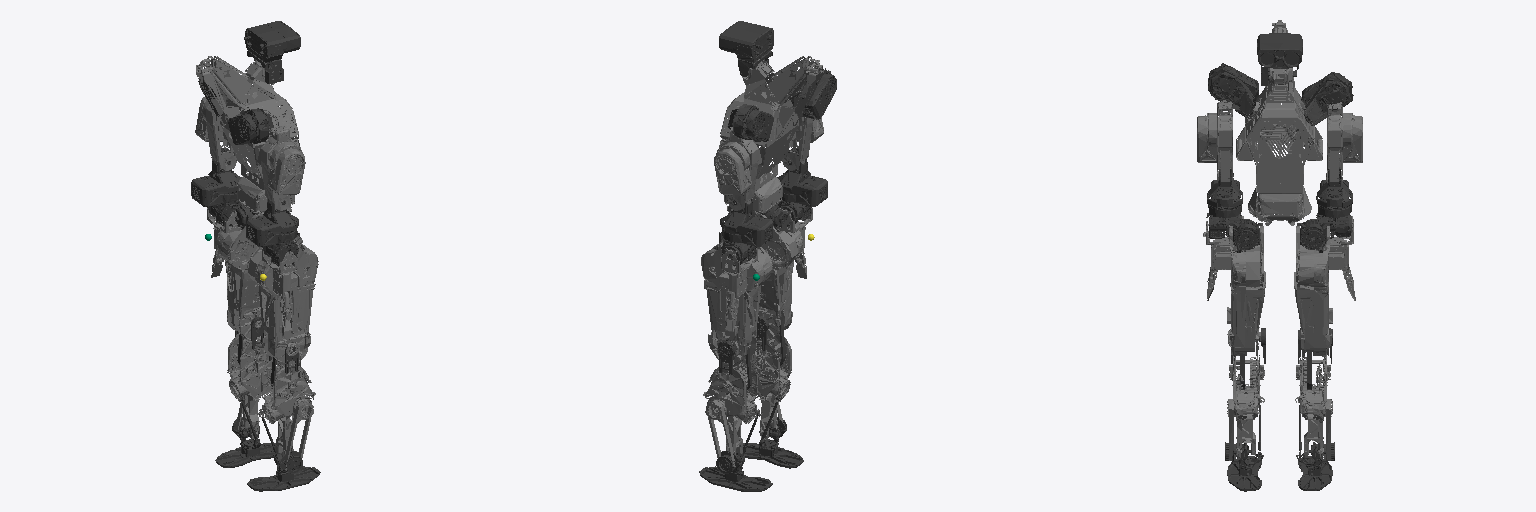
--- Facts derived from the render (not from the file) ---
Views: 3 orthographic renders of the robot side by side, from view 1: azimuth 30°, elevation 25°; view 2: azimuth 150°, elevation 25°; view 3: azimuth 270°, elevation 25°.
Model draco with 40 links and 39 joints (27 revolute, 12 fixed), rooted at torso_link, posed every joint at zero.
Visible links, largest first — view 1: torso_link, r_hip_fe_link, r_knee_fe_ld, l_hip_fe_link, r_shoulder_ie_link, l_knee_fe_ld, neck_pitch_link, r_elbow_fe_link, l_elbow_fe_link, r_sake_gripper_link, l_shoulder_ie_link, r_shoulder_fe_link (+3 smaller); view 2: torso_link, l_hip_fe_link, l_knee_fe_ld, r_hip_fe_link, l_shoulder_ie_link, r_knee_fe_ld, neck_pitch_link, l_elbow_fe_link, r_elbow_fe_link, l_sake_gripper_link, l_shoulder_fe_link, l_ankle_ie_link (+5 smaller); view 3: torso_link, r_hip_fe_link, l_hip_fe_link, r_knee_fe_ld, l_knee_fe_ld, r_shoulder_ie_link, l_shoulder_ie_link, r_shoulder_fe_link, neck_pitch_link, l_shoulder_fe_link, l_elbow_fe_link, r_elbow_fe_link (+7 smaller).
Link boxes in pixels (x1,y1,x2,y2): torso_link: [196, 56, 300, 215]; r_hip_fe_link: [247, 236, 318, 366]; r_knee_fe_ld: [257, 359, 315, 470]; l_hip_fe_link: [217, 213, 264, 340]; r_shoulder_ie_link: [261, 126, 305, 210]; l_knee_fe_ld: [227, 333, 272, 439]; neck_pitch_link: [244, 21, 300, 83]; r_elbow_fe_link: [246, 195, 298, 246]; l_elbow_fe_link: [191, 148, 241, 206]; r_sake_gripper_link: [262, 248, 299, 331]; l_shoulder_ie_link: [195, 97, 237, 170]; r_shoulder_fe_link: [228, 108, 274, 145]; torso_link: [719, 56, 823, 215]; l_hip_fe_link: [701, 238, 772, 365]; l_knee_fe_ld: [703, 358, 762, 470]; r_hip_fe_link: [754, 203, 802, 340]; l_shoulder_ie_link: [714, 127, 758, 210]; r_knee_fe_ld: [749, 334, 791, 439]; neck_pitch_link: [719, 21, 773, 76]; l_elbow_fe_link: [720, 194, 772, 246]; r_elbow_fe_link: [777, 148, 827, 206]; l_sake_gripper_link: [719, 246, 757, 331]; l_shoulder_fe_link: [728, 104, 773, 141]; l_ankle_ie_link: [699, 411, 772, 491]; torso_link: [1236, 20, 1322, 225]; r_hip_fe_link: [1227, 223, 1265, 356]; l_hip_fe_link: [1294, 226, 1332, 357]; r_knee_fe_ld: [1227, 355, 1264, 460]; l_knee_fe_ld: [1295, 354, 1332, 460]; r_shoulder_ie_link: [1197, 100, 1232, 185]; l_shoulder_ie_link: [1327, 102, 1362, 185]; r_shoulder_fe_link: [1208, 63, 1259, 117]; neck_pitch_link: [1257, 33, 1302, 85]; l_shoulder_fe_link: [1301, 72, 1353, 125]; l_elbow_fe_link: [1316, 167, 1352, 217]; r_elbow_fe_link: [1207, 167, 1242, 217].
Bounding box of the posed robot: 0.3421 × 0.4744 × 1.38 m (x, y, z).
24 mesh visuals loaded from 30 distinct referenced files (24 binary STL); not drawn: 6 (reference not matched to a file when rendering).

robot.urdf — draco:
<?xml version="1.0" encoding="utf-8"?>

<robot name="draco">

  <material name = "dark_gray">
    <color rgba="0.3 0.3 0.3 1"/>
  </material>

  <material name = "gray">
    <color rgba="0.5 0.5 0.5 1"/>
  </material>

  <material name = "light_blue">
    <color rgba="0.52 0.73 1 1"/>
  </material>

  <material name = "black">
    <color rgba="0 0 0 1"/>
  </material>

  <link name="torso_link">
    <visual>
      <origin rpy="0 -0 0" xyz="0 0 0"/>
      <geometry>
        <mesh filename="meshes/torso_link.stl"/>
      </geometry>
      <material name="gray"/>
    </visual>
    <inertial>
      <!--<origin rpy="0 0 0" xyz="-31.658e-03 -0.03865e-03 125.19e-03"/>-->
      <origin rpy="0 0 0" xyz="-31.658e-03 -0.07 125.19e-03"/>
      <mass value="6.456"/>
      <inertia ixx="178517.35e-06" ixy="-18.968e-06" ixz="28376.527e-06" iyy="181767.801e-06" iyz="-50.398e-06" izz="37147.31e-06"/>
    </inertial>
  </link>

  <!--=============================== torso_com (torso_com_link) ===========================-->
  <joint name="torso_com" type="fixed">
    <origin rpy="0 0 0" xyz="-31.658e-03 -0.03865e-03 125.19e-03"/>
    <parent link="torso_link"/>
    <child link="torso_com_link"/>
  </joint>
  <link name="torso_com_link">
    <inertial>
      <origin rpy="0 0 0" xyz="0 0 0"/>
      <mass value="1e-9"/>
      <inertia ixx="0" ixy="0" ixz="0" iyy="0" iyz="0" izz="0"/>
    </inertial>
  </link>

  <!--=============================== neck_pitch (neck_pitch_link) ===========================-->
  <joint name="neck_pitch" type="revolute">
    <origin rpy="0 0 0" xyz="-0.0025 0 0.352"/>
    <parent link="torso_link"/>
    <child link="neck_pitch_link"/>
    <axis xyz="0 1 0"/>
    <limit effort="8.8" lower="-0.523599" upper="1.309" velocity="76"/>
    <joint_properties friction="0.0"/>
  </joint>
  <link name="neck_pitch_link">
    <visual>
      <origin rpy="0 0 0" xyz="0 0 0"/>
      <geometry>
        <mesh filename="meshes/neck_pitch_link.stl"/>
      </geometry>
      <material name="dark_gray"/>
    </visual>
    <inertial>
      <origin rpy="0 0 0" xyz="0.0133603 -0.00105814 0.050"/>
      <mass value="1.394979"/>
      <inertia ixx="0.0026526" ixy="-2.37226e-05" ixz="-0.000179286" iyy="0.00218170" iyz="-10.85488e-05" izz="0.00312442"/>
    </inertial>
  </link>

  <!--=============================== l_shoulder_fe (l_shoulder_fe_link) ===========================-->
  <joint name="l_shoulder_fe" type="revolute">
    <origin rpy="0.523599 0 0" xyz="-0.05 0.156 0.2625"/>
    <parent link="torso_link"/>
    <child link="l_shoulder_fe_link"/>
    <axis xyz="0 1 0"/>
    <limit effort="18" lower="-2.26893" upper="0.698132" velocity="47"/>
    <joint_properties friction="0.0"/>
  </joint>
  <link name="l_shoulder_fe_link">
    <visual>
      <origin rpy="0 0 0" xyz="0 0 0"/>
      <geometry>
        <mesh filename="meshes/l_shoulder_fe_link.stl"/>
      </geometry>
      <material name="dark_gray"/>
    </visual>
    <inertial>
      <origin rpy="0 0 0" xyz="-0.0825089 -0.0272215 0"/>
      <mass value="1.02127"/>
      <inertia ixx="0.003" ixy="0.000188" ixz="-1.077e-04" iyy="0.002" iyz="-4.214e-07" izz="0.002"/>
    </inertial>
  </link>

  <!--=============================== l_shoulder_aa (l_shoulder_aa_link) ===========================-->
  <joint name="l_shoulder_aa" type="revolute">
    <origin rpy="-0.523599 0 0" xyz="0 0 0"/>
    <parent link="l_shoulder_fe_link"/>
    <child link="l_shoulder_aa_link"/>
    <axis xyz="1 0 0"/>
    <limit effort="18" lower="0" upper="2.0944" velocity="47"/>
    <joint_properties friction="0.0"/>
  </joint>
  <link name="l_shoulder_aa_link">
    <visual>
      <origin rpy="0 0 0" xyz="0 0 0"/>
      <geometry>
        <mesh filename="meshes/l_shoulder_aa_link.stl"/>
      </geometry>
      <material name="dark_gray"/>
    </visual>
    <inertial>
      <origin rpy="0 0 0" xyz="0.0189446 0.000135529 0.00688183"/>
      <mass value="0.880498"/>
      <inertia ixx="0.00104194" ixy="5.17675e-06" ixz="-0.000110264" iyy="0.00190054" iyz="6.87354e-06" izz="0.00224159"/>
    </inertial>
  </link>

  <!--=============================== l_shoulder_ie (l_shoulder_ie_link) ===========================-->
  <joint name="l_shoulder_ie" type="revolute">
    <origin rpy="0 0 0" xyz="0 0 0"/>
    <parent link="l_shoulder_aa_link"/>
    <child link="l_shoulder_ie_link"/>
    <axis xyz="0 0 1"/>
    <limit effort="18" lower="-1.55" upper="1.55" velocity="47"/>
    <joint_properties friction="0.0"/>
  </joint>
  <link name="l_shoulder_ie_link">
    <visual>
      <origin rpy="0 -0 0" xyz="0 0 0"/>
      <geometry>
        <mesh filename="meshes/l_shoulder_ie_link.stl"/>
      </geometry>
      <material name="gray"/>
    </visual>
    <inertial>
      <origin rpy="0 0 0" xyz="-0.00404627 0.029987 -0.137257"/>
      <mass value="1.21235"/>
      <inertia ixx="0.00490878" ixy="4.35994e-05" ixz="-6.63613e-05" iyy="0.00459797" iyz="3.61794e-05" izz="0.00207282"/>
    </inertial>
  </link>

  <!--=============================== l_elbow_fe (l_elbow_fe_link) ===========================-->
  <joint name="l_elbow_fe" type="revolute">
    <origin rpy="0 0 0" xyz="0 0 -0.25"/>
    <parent link="l_shoulder_ie_link"/>
    <child link="l_elbow_fe_link"/>
    <axis xyz="0 1 0"/>
    <limit effort="10" lower="-2.094" upper="0.0872665" velocity="59.2"/>
    <joint_properties friction="0.0"/>
  </joint>
  <link name="l_elbow_fe_link">
    <visual>
      <origin rpy="0 -0 0" xyz="0 0 0"/>
      <geometry>
        <mesh filename="meshes/l_elbow_fe_link.stl"/>
      </geometry>
      <material name="dark_gray"/>
    </visual>
    <inertial>
      <origin rpy="0 0 0" xyz="-0.0190443 0 -0.0633779"/>
      <mass value="0.990031"/>
      <inertia ixx="0.00220347" ixy="-2.91162e-08" ixz="-0.000310918" iyy="0.00297439" iyz="2.27665e-07" izz="0.0021045"/>
    </inertial>
  </link>

  <!--=============================== l_wrist_ps (l_wrist_ps_link) ===========================-->
  <joint name="l_wrist_ps" type="revolute">
    <origin rpy="0 0 0" xyz="0 0 0"/>
    <parent link="l_elbow_fe_link"/>
    <child link="l_wrist_ps_link"/>
    <axis xyz="0 0 1"/>
    <limit effort="12" lower="-1.571" upper="1.571" velocity="71"/>
    <joint_properties friction="0.0"/>
  </joint>
  <link name="l_wrist_ps_link">
    <visual>
      <origin rpy="0 0 0" xyz="0 0 0"/>
      <geometry>
        <mesh filename="meshes/l_wrist_ps_link.stl"/>
      </geometry>
      <material name="dark_gray"/>
    </visual>
    <inertial>
      <origin rpy="0 0 0" xyz="0.000229308 0.0158433 -0.154"/>
      <mass value="0.64434"/>
      <inertia ixx="0.001" ixy="1.05504e-05" ixz="-5.41208e-06" iyy="0.001" iyz="4.65277e-05" izz="0.001"/>
    </inertial>
  </link>

  <!--=============================== l_wrist_pitch (l_wrist_pitch_link) ===========================-->
  <joint name="l_wrist_pitch" type="revolute">
    <origin rpy="0 0 0" xyz="0 0 -0.1578"/>
    <parent link="l_wrist_ps_link"/>
    <child link="l_wrist_pitch_link"/>
    <axis xyz="0 1 0"/>
    <limit effort="8.8" lower="-1.571" upper="1.571" velocity="76"/>
    <joint_properties friction="0.0"/>
  </joint>
  <link name="l_wrist_pitch_link">
    <inertial>
      <origin rpy="0 0 0" xyz="0 0 0"/>
      <mass value="1e-9"/>
      <inertia ixx="0" ixy="0" ixz="0" iyy="0" iyz="0" izz="0"/>
    </inertial>
  </link>

  <!--=============================== l_wrist_mount (l_sake_gripper_link) ===========================-->
  <joint name="l_wrist_mount" type="fixed">
    <origin rpy="0 0 0" xyz="0 0 0"/>
    <parent link="l_wrist_pitch_link"/>
    <child link="l_sake_gripper_link"/>
  </joint>
  <link name="l_sake_gripper_link">
    <visual>
      <origin rpy="0 0 0" xyz="0 0 0"/>
      <geometry>
        <mesh filename="meshes/l_sake_gripper_link.stl"/>
      </geometry>
      <material name="gray"/>
    </visual>
    <inertial>
      <origin rpy="0 0 0" xyz="5.4498e-05 0.000382544 -0.061"/>
      <mass value="0.498"/>
      <inertia ixx="0.00091" ixy="2.81199e-09" ixz="2.07385e-07" iyy="0.0004228" iyz="-5.81044e-06" izz="0.00091"/>
    </inertial>
  </link>

  <!--=============================== l_camera_frame (l_camera) ===========================-->
  <joint name="l_camera_frame" type="fixed">
      <!--circle-->
      <!--<origin rpy="0 0 0" xyz="-0.05535 0 -0.0975"/> -->
      <!--camera (45 deg)-->
      <!--<origin rpy="0 2.355 0" xyz="-0.07267 0 -0.0802"/> -->
      <!--camera (90 deg)-->
      <origin rpy="0 3.14 0" xyz="-0.05535 0 -0.073"/>
    <parent link="l_sake_gripper_link"/>
    <child link="l_camera"/>
    <axis xyz="0 0 0"/>
  </joint>
  <link name="l_camera">
    <inertial>
      <origin rpy="0 0 0" xyz="0 0 0"/>
      <mass value="1e-9"/>
      <inertia ixx="0" ixy="0" ixz="0" iyy="0" iyz="0" izz="0"/>
    </inertial>
    <visual>
      <origin rpy="0 0 0" xyz="0 0 0"/>
      <geometry>
          <sphere radius="0.01"/>
      </geometry>
    </visual>
  </link>

  <!--=============================== l_hand_contact_frame (l_hand_contact) ===========================-->
  <joint name="l_hand_contact_frame" type="fixed">
    <origin rpy="0 0 0" xyz="0 0 -0.150052"/>
    <parent link="l_sake_gripper_link"/>
    <child link="l_hand_contact"/>
    <axis xyz="0 0 0"/>
  </joint>
  <link name="l_hand_contact">
    <inertial>
      <origin rpy="0 0 0" xyz="0 0 0"/>
      <mass value="1e-9"/>
      <inertia ixx="0" ixy="0" ixz="0" iyy="0" iyz="0" izz="0"/>
    </inertial>
  </link>

  <!--=============================== r_shoulder_fe (r_shoulder_fe_link) ===========================-->
  <joint name="r_shoulder_fe" type="revolute">
    <origin rpy="-0.523599 0 0" xyz="-0.05 -0.156 0.2625"/>
    <parent link="torso_link"/>
    <child link="r_shoulder_fe_link"/>
    <axis xyz="0 1 0"/>
    <limit effort="18" lower="-2.26893" upper="0.698132" velocity="47"/>
    <joint_properties friction="0.0"/>
  </joint>
  <link name="r_shoulder_fe_link">
    <visual>
      <origin rpy="0 -0 0" xyz="0 0 0"/>
      <geometry>
        <mesh filename="meshes/r_shoulder_fe_link.stl"/>
      </geometry>
      <material name="dark_gray"/>
    </visual>
    <inertial>
      <origin rpy="0 0 0" xyz="-0.0825089 0.0272215 6.40505e-05"/>
      <mass value="1.02127"/>
      <inertia ixx="0.003" ixy="-0.000198378" ixz="3.31293e-05" iyy="0.002" iyz="-3.00004e-06" izz="0.002"/>
    </inertial>
  </link>

  <!--=============================== r_shoulder_aa (r_shoulder_aa_link) ===========================-->
  <joint name="r_shoulder_aa" type="revolute">
    <origin rpy="0.523599 0 0" xyz="0 0 0"/>
    <parent link="r_shoulder_fe_link"/>
    <child link="r_shoulder_aa_link"/>
    <axis xyz="1 0 0"/>
    <limit effort="18" lower="-2.0944" upper="0" velocity="47"/>
    <joint_properties friction="0.0"/>
  </joint>
  <link name="r_shoulder_aa_link">
    <visual>
      <origin rpy="0 0 0" xyz="0 0 0"/>
      <geometry>
        <mesh filename="meshes/r_shoulder_aa_link.stl"/>
      </geometry>
      <material name="dark_gray"/>
    </visual>
    <inertial>
      <origin rpy="0 0 0" xyz="0.0189446 0.000135529 0.00688183"/>
      <mass value="0.880498"/>
      <inertia ixx="0.00104194" ixy="5.17675e-06" ixz="-0.000110264" iyy="0.00190054" iyz="6.87354e-06" izz="0.00224159"/>
    </inertial>
  </link>

  <!--=============================== r_shoulder_ie (r_shoulder_ie_link) ===========================-->
  <joint name="r_shoulder_ie" type="revolute">
    <origin rpy="0 0 0" xyz="0 0 0"/>
    <parent link="r_shoulder_aa_link"/>
    <child link="r_shoulder_ie_link"/>
    <axis xyz="0 0 1"/>
    <limit effort="18" lower="-1.5" upper="1.5" velocity="47"/>
    <joint_properties friction="0.0"/>
  </joint>
  <link name="r_shoulder_ie_link">
    <visual>
      <origin rpy="0 0 0" xyz="0 0 0"/>
      <geometry>
        <mesh filename="meshes/r_shoulder_ie_link.stl"/>
      </geometry>
      <material name="gray"/>
    </visual>
    <inertial>
      <origin rpy="0 0 0" xyz="-0.00404627 -0.029987 -0.137257"/>
      <mass value="1.21235"/>
      <inertia ixx="0.00490973" ixy="-4.37742e-05" ixz="-6.62765e-05" iyy="0.00459809" iyz="-3.39569e-05" izz="0.002074"/>
    </inertial>
  </link>

  <!--=============================== r_elbow_fe (r_elbow_fe_link) ===========================-->
  <joint name="r_elbow_fe" type="revolute">
    <origin rpy="0 0 0" xyz="0 0 -0.25"/>
    <parent link="r_shoulder_ie_link"/>
    <child link="r_elbow_fe_link"/>
    <axis xyz="0 1 0"/>
    <limit effort="10" lower="-2.094" upper="0.0872665" velocity="59.2"/>
    <joint_properties friction="0.0"/>
  </joint>
  <link name="r_elbow_fe_link">
    <visual>
      <origin rpy="0 -0 0" xyz="0 0 0"/>
      <geometry>
        <mesh filename="meshes/r_elbow_fe_link.stl"/>
      </geometry>
      <material name="dark_gray"/>
    </visual>
    <inertial>
      <origin rpy="0 0 0" xyz="-0.0190415 1.75896e-05 -0.0633849"/>
      <mass value="0.990031"/>
      <inertia ixx="0.00220407" ixy="-2.9063e-08" ixz="-0.000310786" iyy="0.00297478" iyz="2.27528e-07" izz="0.00210481"/>
    </inertial>
  </link>

  <!--=============================== r_wrist_ps (r_wrist_ps_link) ===========================-->
  <joint name="r_wrist_ps" type="revolute">
    <origin rpy="0 0 0" xyz="0 0 0"/>
    <parent link="r_elbow_fe_link"/>
    <child link="r_wrist_ps_link"/>
    <axis xyz="0 0 1"/>
    <limit effort="12" lower="-1.571" upper="1.571" velocity="71"/>
    <joint_properties friction="0.0"/>
  </joint>
  <link name="r_wrist_ps_link">
    <visual>
      <origin rpy="0 -0 0" xyz="0 0 0"/>
      <geometry>
        <mesh filename="meshes/r_wrist_ps_link.stl"/>
      </geometry>
      <material name="dark_gray"/>
    </visual>
    <inertial>
      <origin rpy="0 0 0" xyz="0.000229308 0.0158433 -0.154481"/>
      <mass value="0.64434"/>
      <inertia ixx="0.001" ixy="5.23851e-06" ixz="-4.22277e-06" iyy="0.001" iyz="3.40912e-05" izz="0.001"/>
    </inertial>
  </link>

  <!--=============================== r_wrist_pitch (r_wrist_pitch_link) ===========================-->
  <joint name="r_wrist_pitch" type="revolute">
    <origin rpy="0 0 0" xyz="0 0 -0.1578"/>
    <parent link="r_wrist_ps_link"/>
    <child link="r_wrist_pitch_link"/>
    <axis xyz="0 1 0"/>
    <limit effort="8.8" lower="-1.571" upper="1.571" velocity="76"/>
    <joint_properties friction="0.0"/>
  </joint>
  <link name="r_wrist_pitch_link">
    <inertial>
      <origin rpy="0 0 0" xyz="0 0 0"/>
      <mass value="1e-9"/>
      <inertia ixx="0" ixy="0" ixz="0" iyy="0" iyz="0" izz="0"/>
    </inertial>
  </link>

  <!--=============================== r_wrist_mount (r_sake_gripper_link) ===========================-->
  <joint name="r_wrist_mount" type="fixed">
    <origin rpy="0 0 0" xyz="0 0 0"/>
    <parent link="r_wrist_pitch_link"/>
    <child link="r_sake_gripper_link"/>
  </joint>
  <link name="r_sake_gripper_link">
    <visual>
      <origin rpy="0 0 0" xyz="0 0 0"/>
      <geometry>
        <mesh filename="meshes/r_sake_gripper_link.stl"/>
      </geometry>
      <material name="gray"/>
    </visual>
    <inertial>
      <origin rpy="0 0 0" xyz="5.4498e-05 0.000382544 -0.061"/>
      <mass value="0.498"/>
      <inertia ixx="0.00091" ixy="2.81199e-09" ixz="2.07385e-07" iyy="0.0004228" iyz="-5.81044e-06" izz="0.00091"/>
    </inertial>
  </link>

  <!--=============================== r_camera_frame (r_camera) ===========================-->
  <joint name="r_camera_frame" type="fixed">
      <!--circle-->
      <!--<origin rpy="0 0 0" xyz="-0.05535 0 -0.0975"/> -->
      <!--camera (45 deg)-->
      <!--<origin rpy="0 2.355 0" xyz="-0.07267 0 -0.0802"/> -->
      <!--camera (90 deg)-->
      <origin rpy="0 3.14 0" xyz="-0.05535 0 -0.073"/>
    <parent link="r_sake_gripper_link"/>
    <child link="r_camera"/>
    <axis xyz="0 0 0"/>
  </joint>
  <link name="r_camera">
    <inertial>
      <origin rpy="0 0 0" xyz="0 0 0"/>
      <mass value="1e-9"/>
      <inertia ixx="0" ixy="0" ixz="0" iyy="0" iyz="0" izz="0"/>
    </inertial>
    <visual>
      <origin rpy="0 0 0" xyz="0 0 0"/>
      <geometry>
          <sphere radius="0.01"/>
      </geometry>
    </visual>
  </link>

  <!--=============================== r_hand_contact_frame (r_hand_contact) ===========================-->
  <joint name="r_hand_contact_frame" type="fixed">
    <origin rpy="0 0 0" xyz="0 0 -0.150052"/>
    <parent link="r_sake_gripper_link"/>
    <child link="r_hand_contact"/>
    <axis xyz="0 0 0"/>
  </joint>
  <link name="r_hand_contact">
    <inertial>
      <origin rpy="0 0 0" xyz="0 0 0"/>
      <mass value="1e-9"/>
      <inertia ixx="0" ixy="0" ixz="0" iyy="0" iyz="0" izz="0"/>
    </inertial>
  </link>

  <!--=============================== l_hip_ie (l_hip_ie_link) ===========================-->
  <joint name="l_hip_ie" type="revolute">
    <origin rpy="0.523599 0 0" xyz="0 0.06 -0.0893782"/>
    <parent link="torso_link"/>
    <child link="l_hip_ie_link"/>
    <axis xyz="0 0 1"/>
    <limit effort="44" lower="-0.872665" upper="0.872665" velocity="8.1"/>
    <joint_properties friction="0.0"/>
  </joint>
  <link name="l_hip_ie_link">
    <visual>
      <origin rpy="0 0 0" xyz="0 0 0"/>
      <geometry>
        <mesh filename="meshes/l_hip_ie_link.stl"/>
      </geometry>
      <material name="dark_gray"/>
    </visual>
    <inertial>
      <origin rpy="0 0 0" xyz="-0.00363703 0.00531284 -0.0260463"/>
      <mass value="0.162"/>
      <inertia ixx="136.77063e-06" ixy="-12.07781e-06" ixz="18.69536e-06" iyy="229.3943e-06" iyz="26.13639e-06" izz="196.36211e-06"/>
    </inertial>
  </link>

  <!--=============================== l_hip_aa (l_hip_aa_link) ===========================-->
  <joint name="l_hip_aa" type="revolute">
    <origin rpy="-0.523599 0 0" xyz="0 0 -0.07"/>
    <parent link="l_hip_ie_link"/>
    <child link="l_hip_aa_link"/>
    <axis xyz="1 0 0"/>
    <limit effort="56" lower="-0.261799" upper="0.785398" velocity="5.1"/>
    <joint_properties friction="0.0"/>
  </joint>
  <link name="l_hip_aa_link">
    <visual>
      <origin rpy="0 -0 0" xyz="0 0 0"/>
      <geometry>
        <mesh filename="meshes/l_hip_aa_link.stl"/>
      </geometry>
      <material name="dark_gray"/>
    </visual>
    <inertial>
      <origin rpy="0 0 0" xyz="-0.000880455 0.00182239 -0.00110234"/>
      <mass value="0.912"/>
      <inertia ixx="870.08327e-06" ixy="36.28214e-06" ixz="12.89916e-06" iyy="865.69602e-06" iyz="26.99886e-06" izz="1023.81075e-06"/>
    </inertial>
  </link>

  <!--=============================== l_hip_fe (l_hip_fe_link) ===========================-->
  <joint name="l_hip_fe" type="revolute">
    <origin rpy="0 0 0" xyz="0 0 0"/>
    <parent link="l_hip_aa_link"/>
    <child link="l_hip_fe_link"/>
    <axis xyz="0 1 0"/>
    <limit effort="59.6" lower="-1.52716" upper="0.523599" velocity="36.7"/>
    <joint_properties friction="0.0"/>
  </joint>
  <link name="l_hip_fe_link">
    <visual>
      <origin rpy="0 0 0" xyz="0 0 0"/>
      <geometry>
        <mesh filename="meshes/l_hip_fe_link.stl"/>
      </geometry>
      <material name="gray"/>
    </visual>
    <inertial>
      <origin rpy="0 0 0" xyz="0.00193727 -0.00408989 -0.1636"/>
      <mass value="5.0"/>
      <inertia ixx="61021.51e-06" ixy="-47.486e-06" ixz="578.602e-06" iyy="67907.577e-06" iyz="3610.535e-06" izz="14521.809e-06"/>
    </inertial>
  </link>

  <!--=============================== l_knee_fe_jp (l_knee_fe_lp) ===========================-->
  <joint name="l_knee_fe_jp" type="revolute">
    <origin rpy="0 0 0" xyz="0 0 -0.324231"/>
    <parent link="l_hip_fe_link"/>
    <child link="l_knee_fe_lp"/>
    <axis xyz="0 1 0"/>
    <limit effort="40.85" lower="-0.0872665" upper="1.52716" velocity="13.35"/>
    <joint_properties friction="0.0"/>
  </joint>
  <link name="l_knee_fe_lp">
    <visual>
      <origin rpy="0 -0 0" xyz="0 0 0"/>
      <geometry>
        <mesh filename="meshes/l_knee_fe_lp.stl"/>
      </geometry>
      <material name="dark_gray"/>
    </visual>
    <inertial>
      <origin rpy="0 0 0" xyz="-7.68312e-09 0.0147631 -0.0260394"/>
      <mass value="0.211"/>
      <inertia ixx="778.97283e-06" ixy="0.00028e-06" ixz="0.00028e-06" iyy="447.80329e-06" iyz="3.84258e-06" izz="484.80585e-06"/>
    </inertial>
  </link>

  <!--=============================== l_knee_adj (l_knee_adj_link) ===========================-->
  <joint name="l_knee_adj" type="fixed">
    <origin rpy="0 0 0" xyz="0 0 -0.0557693"/>
    <parent link="l_knee_fe_lp"/>
    <child link="l_knee_adj_link"/>
  </joint>
  <link name="l_knee_adj_link">
    <visual>
      <origin rpy="0 0 0" xyz="0 0 0"/>
      <geometry>
        <mesh filename="meshes/l_knee_adj_link.stl"/>
      </geometry>
      <material name="dark_gray"/>
    </visual>
    <inertial>
      <origin rpy="0 0 0" xyz="0.00907506 -0.006495 -0.017049"/>
      <mass value="0.156"/>
      <inertia ixx="461.2405e-06" ixy="20.74097e-06" ixz="-22.60628e-06" iyy="252.3969e-06" iyz="36.06734e-06" izz="342.40347e-06"/>
    </inertial>
  </link>

  <!--=============================== l_knee_fe_jd (l_knee_fe_ld) ===========================-->
  <!-- NOTE: If you're NOT using Apptronik's simulator, please uncomment line 716 and use that, instead of line 717 -->
  <joint name="l_knee_fe_jd" type="revolute">
    <!-- <origin xyz="${0 + 0*l_knee_adj_param} ${0.00599 + 0.0537 * l_knee_adj_param} ${-0.1115386 + -0.9985 * l_knee_adj_param}" rpy="-1.90275e-16 1.31839e-16 2.80923e-17" /> -->
    <origin rpy="0 0 0" xyz="0.0 0.0 -0.1117386"/>
    <parent link="l_knee_fe_lp"/>
    <child link="l_knee_fe_ld"/>
    <axis xyz="0 1 0"/>
    <limit effort="40.85" lower="-0.0872665" upper="1.52716" velocity="13.35"/>
  </joint>
  <link name="l_knee_fe_ld">
    <visual>
      <origin rpy="0 -0 0" xyz="0 0 0"/>
      <geometry>
        <mesh filename="meshes/l_knee_fe_ld.stl"/>
      </geometry>
      <material name="gray"/>
    </visual>
    <inertial>
      <origin rpy="0 0 0" xyz="0.00588785 0.0041898 -0.0805522"/>
      <mass value="2.5"/>
      <inertia ixx="9986.75806e-06" ixy="-264.73832e-06" ixz="40.35627e-06" iyy="11291.38892e-06" iyz="725.40626e-06" izz="4054.98067e-06"/>
    </inertial>
  </link>

  <!--=============================== l_ankle_fe (l_ankle_fe_link) ===========================-->
  <!-- NOTE: If you're NOT using Apptronik's simulator, please uncomment line 753 and use that, instead of line 754 -->
  <joint name="l_ankle_fe" type="revolute">
    <!-- <origin xyz="-6.26776e-17 -1.80411e-16 -0.248231" rpy="2.01226e-15 1.44763e-15 -7.77124e-18" /> -->
    <origin rpy="0 0 0" xyz="0 0.00599 -0.248231"/>
    <parent link="l_knee_fe_ld"/>
    <child link="l_ankle_fe_link"/>
    <axis xyz="0 1 0"/>
    <limit effort="44" lower="-1.5708" upper="1.0472" velocity="8.1"/>
    <joint_properties friction="0.0"/>
  </joint>
  <link name="l_ankle_fe_link">
    <visual>
      <origin rpy="0 -0 0" xyz="0 0 0"/>
      <geometry>
        <mesh filename="meshes/l_ankle_fe_link.stl"/>
      </geometry>
      <material name="dark_gray"/>
    </visual>
    <inertial>
      <origin rpy="0 0 0" xyz="-0.000143954 0.0286126 -0.000732972"/>
      <mass value="0.172"/>
      <inertia ixx="83.52192e-06" ixy="-0.09751e-06" ixz="2.33379e-06" iyy="54.43219e-06" iyz="0.68506e-06" izz="95.29953e-06"/>
    </inertial>
  </link>

  <!--=============================== l_ankle_ie (l_ankle_ie_link) ===========================-->
  <joint name="l_ankle_ie" type="revolute">
    <origin rpy="0 0 0" xyz="0 0 0"/>
    <parent link="l_ankle_fe_link"/>
    <child link="l_ankle_ie_link"/>
    <axis xyz="1 0 0"/>
    <limit effort="30" lower="-0.785398" upper="0.261799" velocity="11.1"/>
    <joint_properties friction="0.0"/>
  </joint>
  <link name="l_ankle_ie_link">
    <visual>
      <origin rpy="0 -0 0" xyz="0 0 0"/>
      <geometry>
        <mesh filename="meshes/l_ankle_ie_link.stl"/>
      </geometry>
      <material name="dark_gray"/>
    </visual>
    <collision>
      <origin rpy="0 -0 0" xyz="0 -0.005 -0.046"/>
      <geometry>
        <box size="0.2 0.1 0.0591"/>
      </geometry>
    </collision>
    <inertial>
      <origin rpy="0 0 0" xyz="-0.00321864 -0.00678326 -0.0440152"/>
      <mass value="0.478"/>
      <inertia ixx="1064.65492e-06" ixy="-25.85803e-06" ixz="148.2107e-06" iyy="1820.44891e-06" iyz="145.81372e-06" izz="1268.38379e-06"/>
    </inertial>
  </link>

  <!--=============================== l_foot_contact_frame (l_foot_contact) ===========================-->
  <joint name="l_foot_contact_frame" type="fixed">
    <origin rpy="0 0 0" xyz="0 0 -0.076"/>
    <parent link="l_ankle_ie_link"/>
    <child link="l_foot_contact"/>
  </joint>
  <link name="l_foot_contact">
    <inertial>
      <origin rpy="0 0 0" xyz="0 0 0"/>
      <mass value="1e-9"/>
      <inertia ixx="0" ixy="0" ixz="0" iyy="0" iyz="0" izz="0"/>
    </inertial>
  </link>

  <!--=============================== r_hip_ie (r_hip_ie_link) ===========================-->
  <joint name="r_hip_ie" type="revolute">
    <origin rpy="-0.523599 0 0" xyz="0 -0.06 -0.0893782"/>
    <parent link="torso_link"/>
    <child link="r_hip_ie_link"/>
    <axis xyz="0 0 1"/>
    <limit effort="44" lower="-0.872665" upper="0.872665" velocity="8.1"/>
    <joint_properties friction="0.0"/>
  </joint>
  <link name="r_hip_ie_link">
    <visual>
      <origin rpy="0 -0 0" xyz="0 0 0"/>
      <geometry>
        <mesh filename="meshes/r_hip_ie_link.stl"/>
      </geometry>
      <material name="dark_gray"/>
    </visual>
    <inertial>
      <origin rpy="0 0 0" xyz="-0.00363703 -0.00531284 -0.0260652"/>
      <mass value="0.162"/>
      <inertia ixx="136.77063e-06" ixy="12.07781e-06" ixz="18.69536e-06" iyy="229.3943e-06" iyz="-26.13639e-06" izz="196.36211e-06"/>
    </inertial>
  </link>

  <!--=============================== r_hip_aa (r_hip_aa_link) ===========================-->
  <joint name="r_hip_aa" type="revolute">
    <origin rpy="0.523599 0 0" xyz="0 0 -0.07"/>
    <parent link="r_hip_ie_link"/>
    <child link="r_hip_aa_link"/>
    <axis xyz="1 0 0"/>
    <limit effort="56" lower="-0.785398" upper="0.261799" velocity="5.1"/>
    <joint_properties friction="0.0"/>
  </joint>
  <link name="r_hip_aa_link">
    <visual>
      <origin rpy="0 -0 0" xyz="0 0 0"/>
      <geometry>
        <mesh filename="meshes/r_hip_aa_link.stl"/>
      </geometry>
      <material name="dark_gray"/>
    </visual>
    <inertial>
      <origin rpy="0 0 0" xyz="-0.000880446 -0.00180849 -0.00110234"/>
      <mass value="0.912"/>
      <inertia ixx="8.7008327e-04" ixy="-3.628214e-05" ixz="1.289916e-05" iyy="8.6569602e-04" iyz="-2.699886e-05" izz="1.02381075e-03"/>
    </inertial>
  </link>

  <!--=============================== r_hip_fe (r_hip_fe_link) ===========================-->
  <joint name="r_hip_fe" type="revolute">
    <origin rpy="0 0 0" xyz="0 0 0"/>
    <parent link="r_hip_aa_link"/>
    <child link="r_hip_fe_link"/>
    <axis xyz="0 1 0"/>
    <limit effort="59.6" lower="-1.52716" upper="0.523599" velocity="36.7"/>
    <joint_properties friction="0.0"/>
  </joint>
  <link name="r_hip_fe_link">
    <visual>
      <origin rpy="0 -0 0" xyz="0 0 0"/>
      <geometry>
        <mesh filename="meshes/r_hip_fe_link.stl"/>
      </geometry>
      <material name="gray"/>
    </visual>
    <inertial>
      <origin rpy="0 0 0" xyz="0.00193727 0.00408989 -0.1636"/>
      <mass value="5.0"/>
      <inertia ixx="61021.51e-06" ixy="47.486e-06" ixz="578.602e-06" iyy="67907.577e-06" iyz="-3610.535e-06" izz="14521.809e-06"/>
    </inertial>
  </link>

  <!--=============================== r_knee_fe_jp (r_knee_fe_lp) ===========================-->
  <joint name="r_knee_fe_jp" type="revolute">
    <origin rpy="0 0 0" xyz="0 0 -0.324231"/>
    <parent link="r_hip_fe_link"/>
    <child link="r_knee_fe_lp"/>
    <axis xyz="0 1 0"/>
    <limit effort="40.85" lower="-0.0872665" upper="1.52716" velocity="13.35"/>
    <joint_properties friction="0.0"/>
  </joint>
  <link name="r_knee_fe_lp">
    <visual>
      <origin rpy="0 -0 0" xyz="0 0 0"/>
      <geometry>
        <mesh filename="meshes/r_knee_fe_lp.stl"/>
      </geometry>
      <material name="dark_gray"/>
    </visual>
    <inertial>
      <origin rpy="0 0 0" xyz="4.68497e-09 -0.0147631 -0.0260394"/>
      <mass value="0.211"/>
      <inertia ixx="778.97283e-06" ixy="0.00028e-06" ixz="-0.00028e-06" iyy="447.80329e-06" iyz="-3.84258e-06" izz="484.80585e-06"/>
    </inertial>
  </link>

  <!--=============================== r_knee_adj (r_knee_adj_link) ===========================-->
  <joint name="r_knee_adj" type="fixed">
    <origin rpy="0 0 0" xyz="0 0 -0.0557693"/>
    <parent link="r_knee_fe_lp"/>
    <child link="r_knee_adj_link"/>
  </joint>
  <link name="r_knee_adj_link">
    <visual>
      <origin rpy="0 -0 0" xyz="0 0 0"/>
      <geometry>
        <mesh filename="meshes/r_knee_adj_link.stl"/>
      </geometry>
      <material name="dark_gray"/>
    </visual>
    <inertial>
      <origin rpy="0 0 0" xyz="0.00907522 0.00649535 -0.0170486"/>
      <mass value="0.156"/>
      <inertia ixx="461.2405e-06" ixy="-20.74097e-06" ixz="-22.60628e-06" iyy="252.3969e-06" iyz="-36.06734e-06" izz="342.40347e-06"/>
    </inertial>
  </link>

  <!--=============================== r_knee_fe_jd (r_knee_fe_ld) ===========================-->
  <!-- NOTE: If you're NOT using Apptronik's simulator, please uncomment line 1019 and use that, instead of line 1020 -->
  <joint name="r_knee_fe_jd" type="revolute">
    <!-- <origin xyz="${0 + 0 * r_knee_adj_param} ${-0.006 + -0.0537 * r_knee_adj_param} ${-0.1115386 + -0.9985 * r_knee_adj_param}" rpy="1.06003e-30 6.64446e-33 -5.70613e-32" /> -->
    <origin rpy="0 0 0" xyz="0 0 -0.1117386"/>
    <parent link="r_knee_fe_lp"/>
    <child link="r_knee_fe_ld"/>
    <axis xyz="0 1 0"/>
    <limit effort="40.85" lower="-0.0872665" upper="1.52716" velocity="13.35"/>
    <joint_properties friction="0.0"/>
  </joint>
  <link name="r_knee_fe_ld">
    <visual>
      <origin rpy="0 -0 0" xyz="0 0 0"/>
      <geometry>
        <mesh filename="meshes/r_knee_fe_ld.stl"/>
      </geometry>
      <material name="gray"/>
    </visual>
    <inertial>
      <origin rpy="0 0 0" xyz="0.00590237 -0.00420298 -0.0805676"/>
      <mass value="2.5"/>
      <inertia ixx="9986.75806e-06" ixy="264.73832e-06" ixz="40.35627e-06" iyy="11291.38892e-06" iyz="-725.40626e-06" izz="4054.98067e-06"/>
    </inertial>
  </link>

  <!--=============================== r_ankle_fe (r_ankle_fe_link) ===========================-->
  <!-- NOTE: If you're NOT using Apptronik's simulator, please uncomment line 1057 and use that, instead of line 1058 -->
  <joint name="r_ankle_fe" type="revolute">
    <!-- <origin xyz="-1.70255e-16 -9.71445e-17 -0.248231" rpy="-1.09947e-29 -6.39256e-14 1.4244e-16" /> -->
    <origin rpy="0 0 0" xyz="0 -0.006 -0.248231"/>
    <parent link="r_knee_fe_ld"/>
    <child link="r_ankle_fe_link"/>
    <axis xyz="0 1 0"/>
    <limit effort="44" lower="-1.5708" upper="1.0472" velocity="8.1"/>
    <joint_properties friction="0.0"/>
  </joint>
  <link name="r_ankle_fe_link">
    <visual>
      <origin rpy="0 -0 0" xyz="0 0 0"/>
      <geometry>
        <mesh filename="meshes/r_ankle_fe_link.stl"/>
      </geometry>
      <material name="dark_gray"/>
    </visual>
    <inertial>
      <origin rpy="0 0 0" xyz="-0.00026965 -0.0286127 -0.000732675"/>
      <mass value="0.172"/>
      <inertia ixx="83.52192e-06" ixy="0.09751e-06" ixz="2.33379e-06" iyy="54.43219e-06" iyz="-0.68506e-06" izz="95.29953e-06"/>
    </inertial>
  </link>

  <!--=============================== r_ankle_ie (r_ankle_ie_link) ===========================-->
  <joint name="r_ankle_ie" type="revolute">
    <origin rpy="0 0 0" xyz="0 0 0"/>
    <parent link="r_ankle_fe_link"/>
    <child link="r_ankle_ie_link"/>
    <axis xyz="1 0 0"/>
    <limit effort="30" lower="-0.261799" upper="0.785398" velocity="11.1"/>
    <joint_properties friction="0.0"/>
  </joint>
  <link name="r_ankle_ie_link">
    <visual>
      <origin rpy="0 -0 0" xyz="0 0 0"/>
      <geometry>
        <mesh filename="meshes/r_ankle_ie_link.stl"/>
      </geometry>
      <material name="dark_gray"/>
    </visual>
    <collision>
      <origin rpy="0 -0 0" xyz="0 0.005 -0.046"/>
      <geometry>
        <box size="0.2 0.1 0.0591"/>
      </geometry>
    </collision>
    <inertial>
      <origin rpy="0 0 0" xyz="-0.00321562 0.00678152 -0.0440164"/>
      <mass value="0.478"/>
      <inertia ixx="1064.65492e-06" ixy="25.85803e-06" ixz="148.2107e-06" iyy="1820.44891e-06" iyz="-145.81372e-06" izz="1268.38379e-06"/>
    </inertial>
  </link>

  <!--=============================== r_foot_contact_frame (r_foot_contact) ===========================-->
  <joint name="r_foot_contact_frame" type="fixed">
    <origin rpy="0 0 0" xyz="0 0 -0.076"/>
    <parent link="r_ankle_ie_link"/>
    <child link="r_foot_contact"/>
  </joint>
  <link name="r_foot_contact">
    <inertial>
      <origin rpy="0 0 0" xyz="0 0 0"/>
      <mass value="1e-9"/>
      <inertia ixx="0" ixy="0" ixz="0" iyy="0" iyz="0" izz="0"/>
    </inertial>
  </link>
  <!--=============================== torso_imu_frame (torso_imu) ===========================-->
  <joint name="torso_imu_frame" type="fixed">
    <origin rpy="3.14159 0 3.14159" xyz="0 0 -0.09"/>
    <parent link="torso_link"/>
    <child link="torso_imu"/>
    <axis xyz="0 0 0"/>
  </joint>
  <link name="torso_imu">
    <inertial>
      <origin rpy="0 0 0" xyz="0 0 0"/>
      <mass value="1e-9"/>
      <inertia ixx="0" ixy="0" ixz="0" iyy="0" iyz="0" izz="0"/>
    </inertial>
  </link>
</robot>
